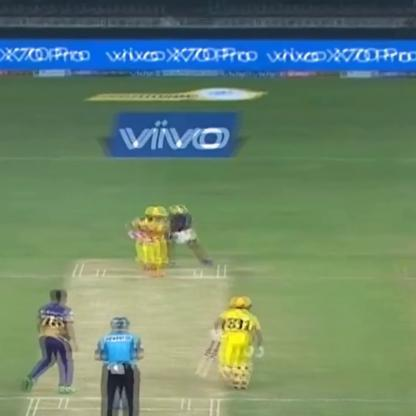pitch: (30, 257, 238, 415)
